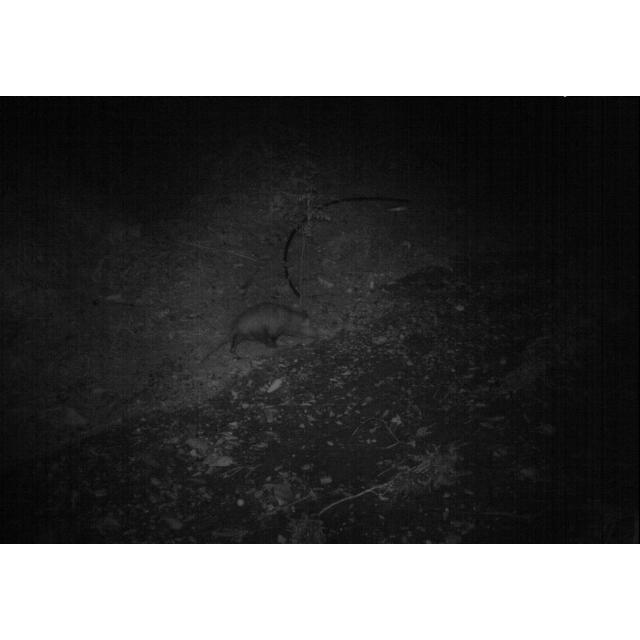animals: (208, 304, 326, 362)
